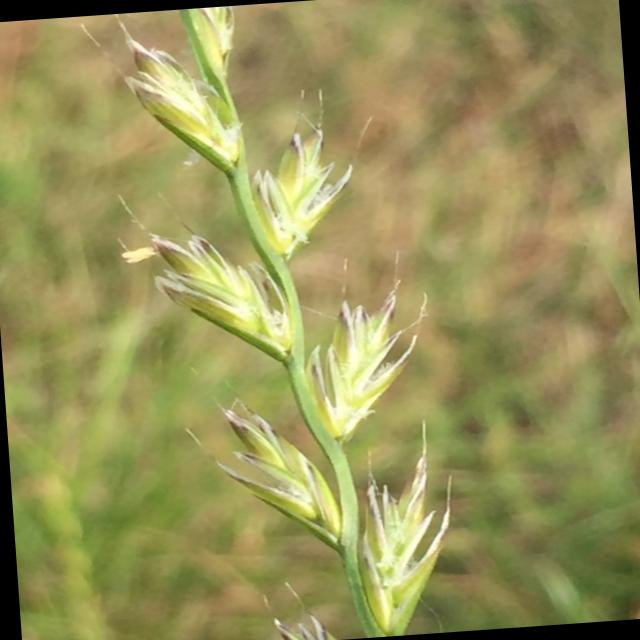Lolium: (85, 0, 468, 640)
